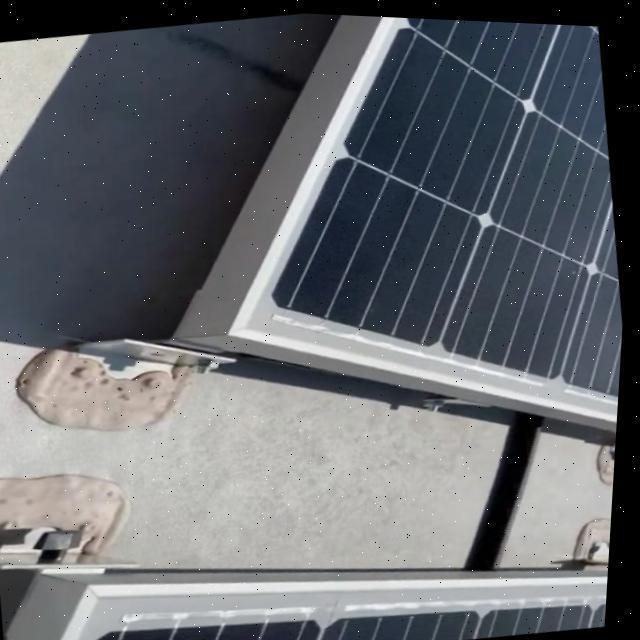Normal Solar Panel: (184, 8, 640, 476), (31, 508, 616, 640)
